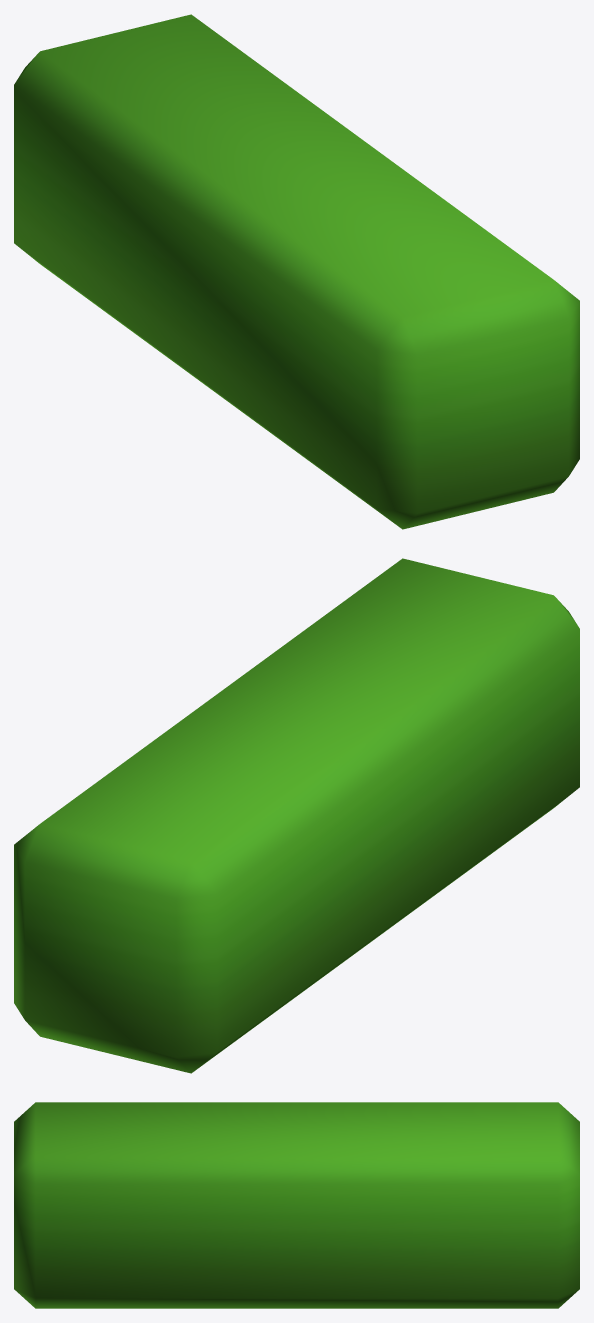
File: Bush_1_C_2.fbx
The picture shows the model from 3 angles, top to bottom: view 1: azimuth 30°, elevation 25°; view 2: azimuth 150°, elevation 25°; view 3: azimuth 270°, elevation 25°; orthographic projection. The views are drawn at different scales.
Visible parts, largest first — view 1: Bush_1_C_2; view 2: Bush_1_C_2; view 3: Bush_1_C_2.
Boxes of the visible parts, left/top/right/bottom form: Bush_1_C_2: left=14, top=14, right=579, bottom=529; Bush_1_C_2: left=14, top=558, right=579, bottom=1073; Bush_1_C_2: left=14, top=1102, right=579, bottom=1308.
Bounding box in the file's own units: 61.94 × 61.94 × 207.
